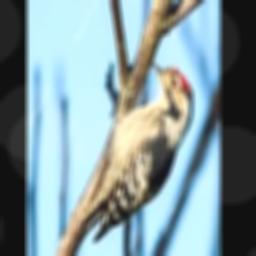Woodpecker: (80, 62, 193, 243)
